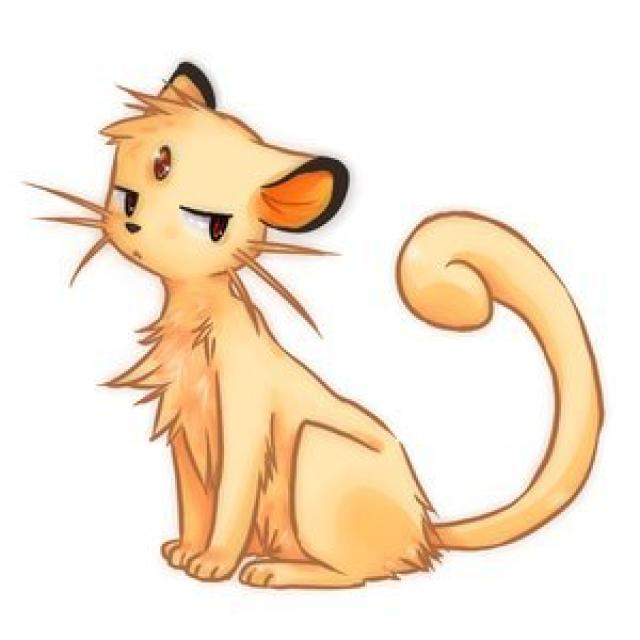Persian: (102, 71, 446, 591)
